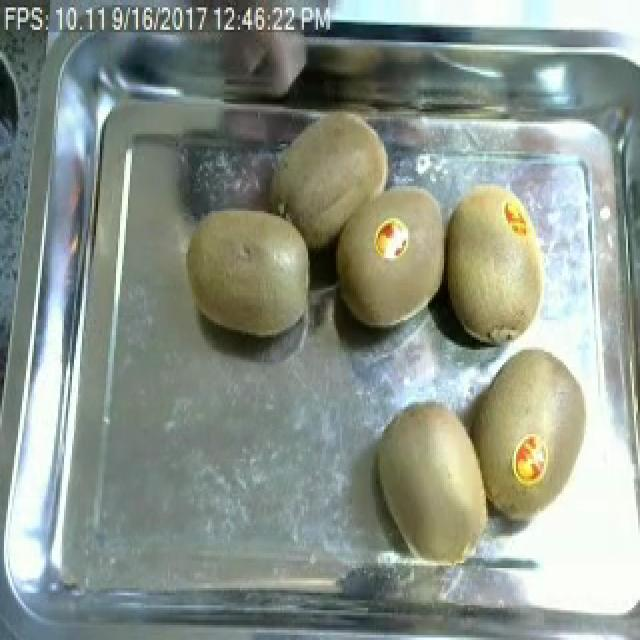Fruit: (366, 394, 500, 578), (260, 104, 402, 261), (438, 173, 556, 354), (178, 198, 320, 348), (324, 176, 448, 337)
